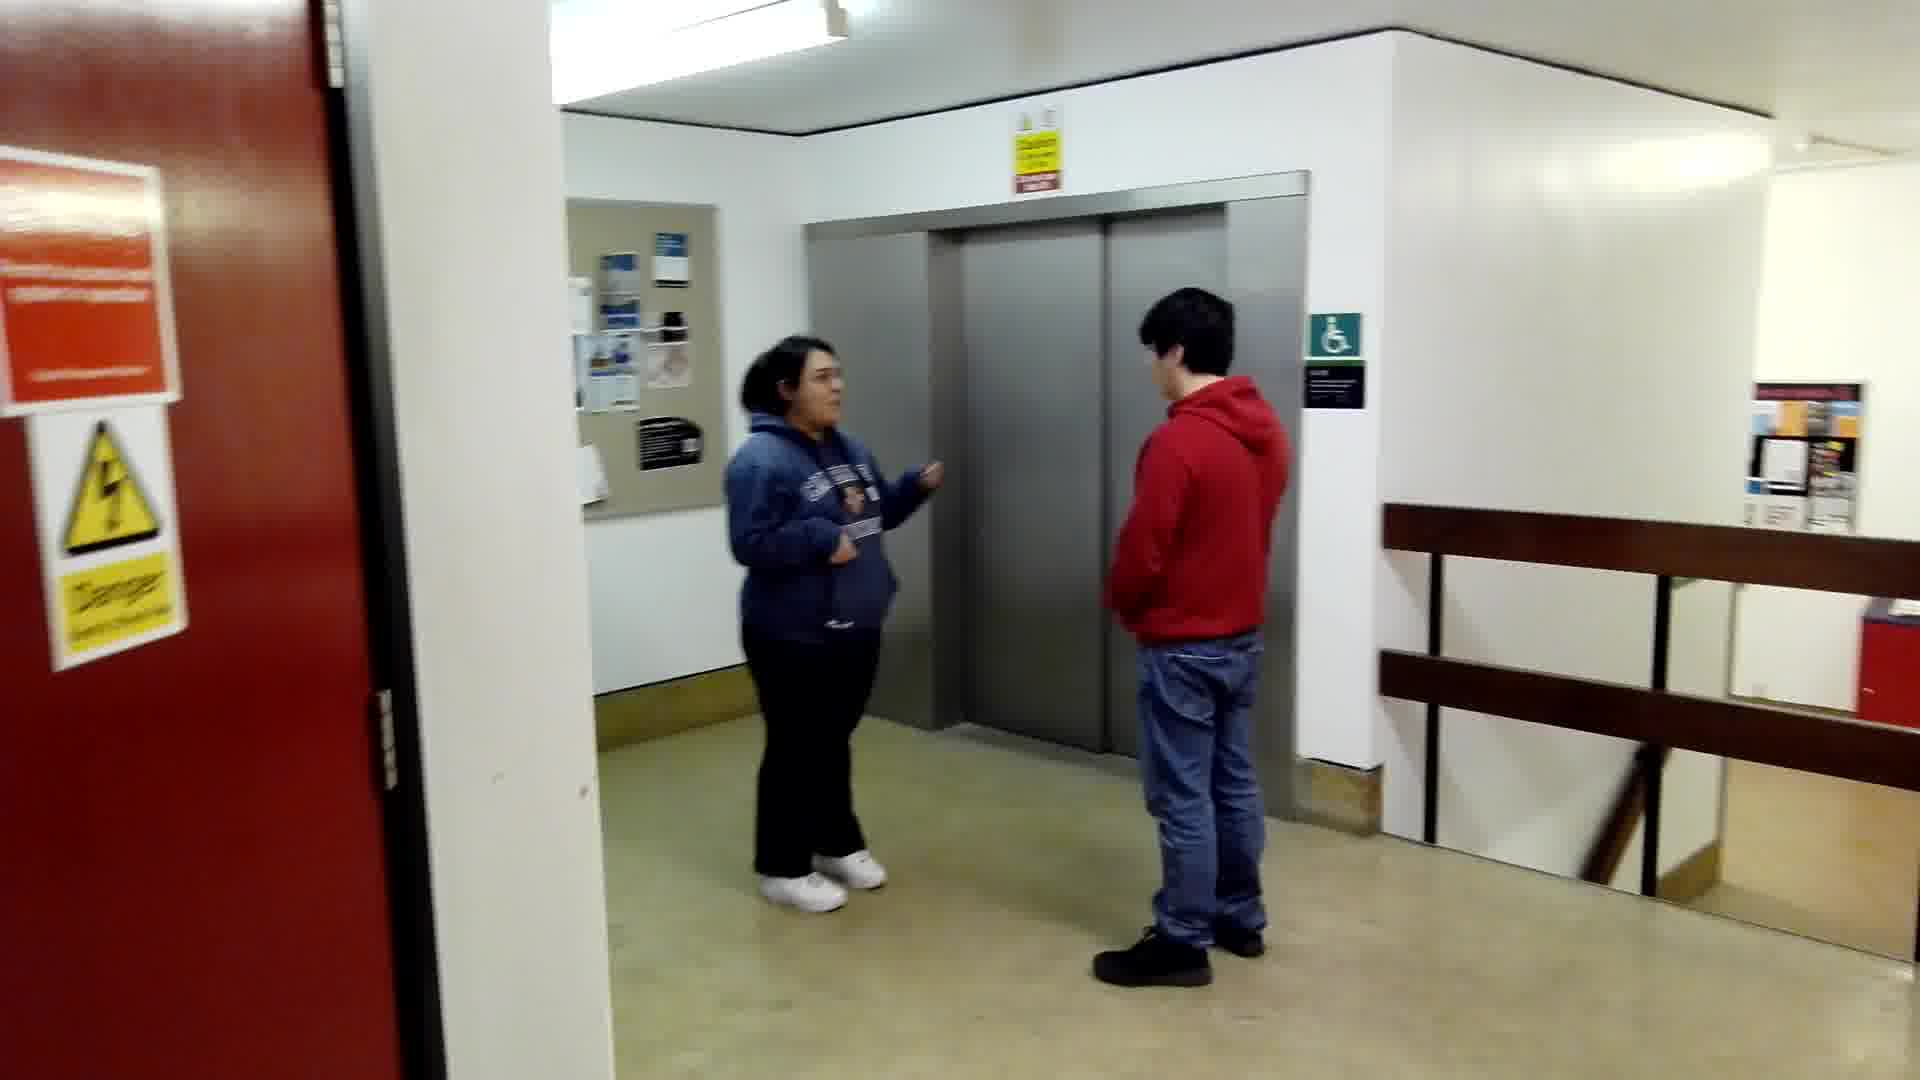Person: (714, 329, 948, 939), (1101, 285, 1286, 1002)
